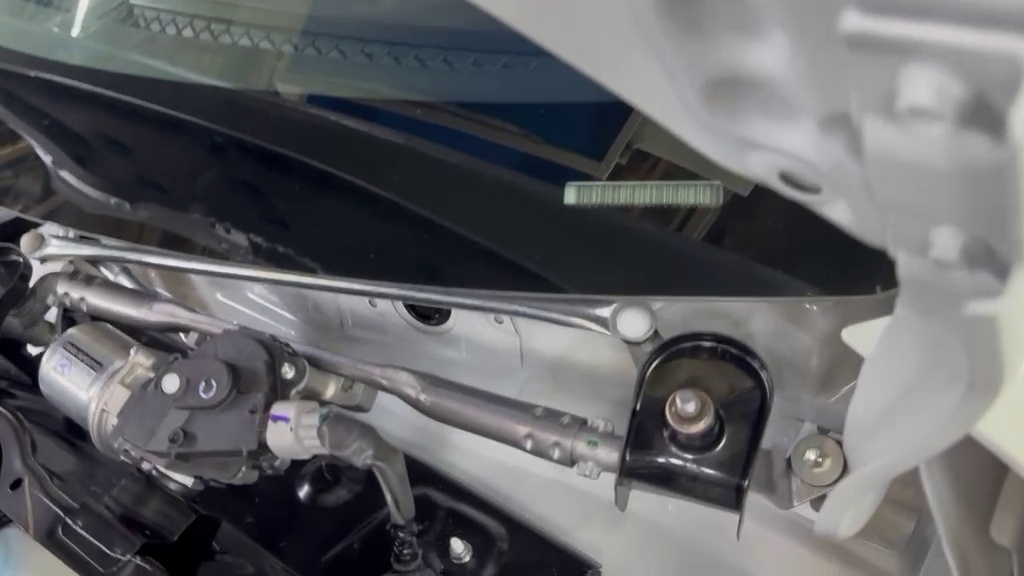barcode: (595, 325, 803, 550)
hinge: (548, 165, 751, 224)
